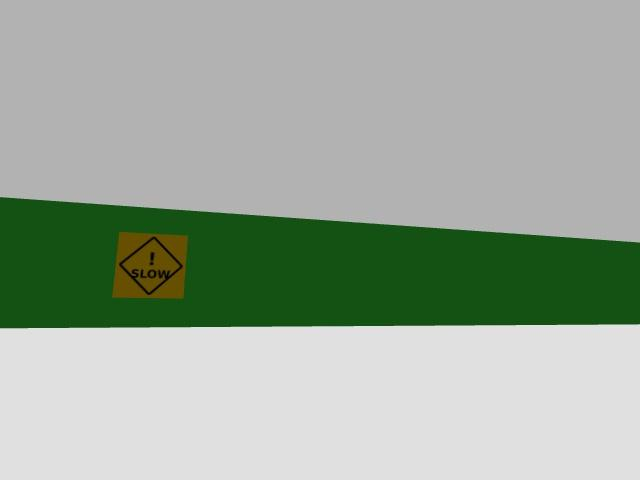slow: (114, 232, 186, 297)
